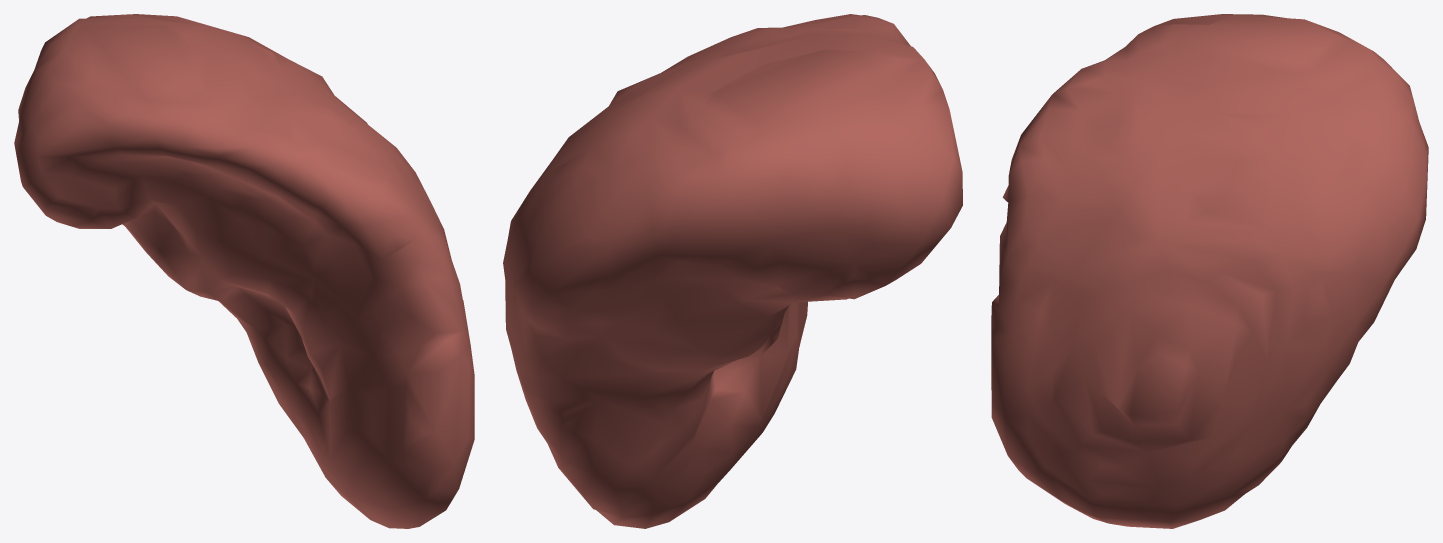
File: tsd_s0327_older_adult_male.lymphatic.LOD3.glb
3 views of the same model, side by side, from view 1: azimuth 30°, elevation 25°; view 2: azimuth 150°, elevation 25°; view 3: azimuth 270°, elevation 25° (orthographic). The views are drawn at different scales.
Visible parts, largest first — view 1: TSD_S0327.OLDER_ADULT.MALE.LYMPHATIC.SPLEEN; view 2: TSD_S0327.OLDER_ADULT.MALE.LYMPHATIC.SPLEEN; view 3: TSD_S0327.OLDER_ADULT.MALE.LYMPHATIC.SPLEEN.
Part boxes in pixels (left/top/right/bottom): TSD_S0327.OLDER_ADULT.MALE.LYMPHATIC.SPLEEN: left=14, top=14, right=474, bottom=528; TSD_S0327.OLDER_ADULT.MALE.LYMPHATIC.SPLEEN: left=503, top=14, right=962, bottom=528; TSD_S0327.OLDER_ADULT.MALE.LYMPHATIC.SPLEEN: left=991, top=14, right=1428, bottom=528.
Size of the model in its own units: 0.079 by 0.0946 by 0.0915.
